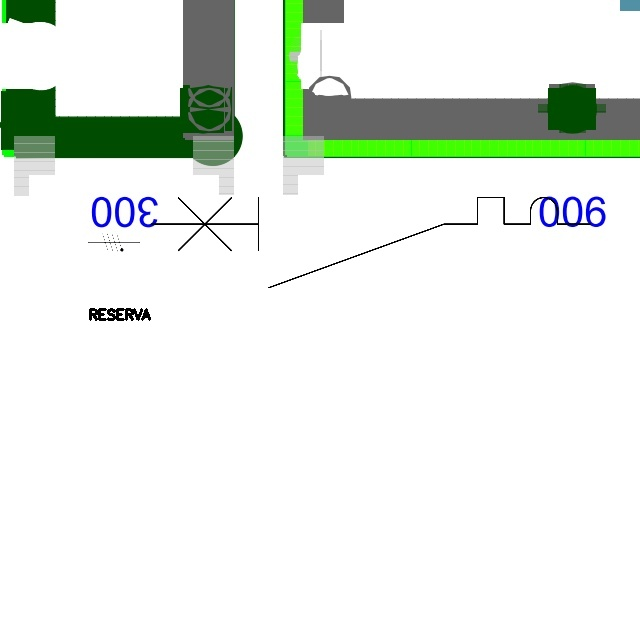interruptor_termomagnetico: (140, 186, 602, 299)
